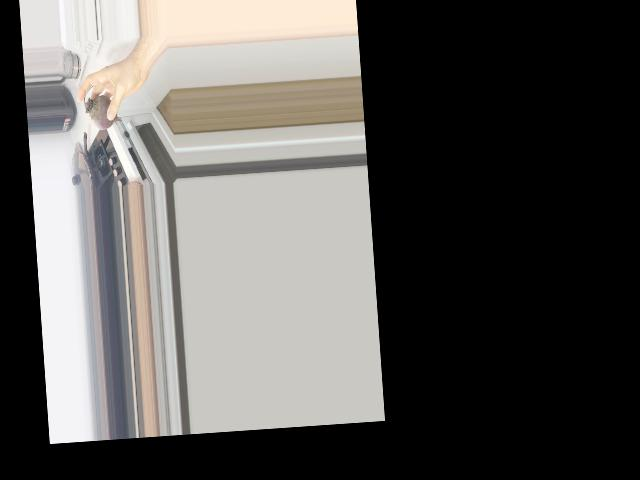beet: (83, 84, 123, 131)
